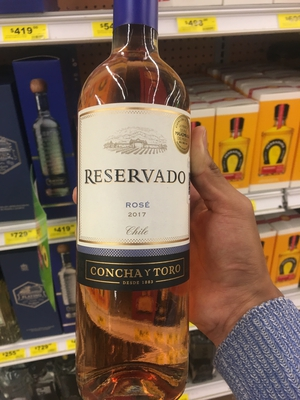reservado rose: (76, 18, 192, 389)
